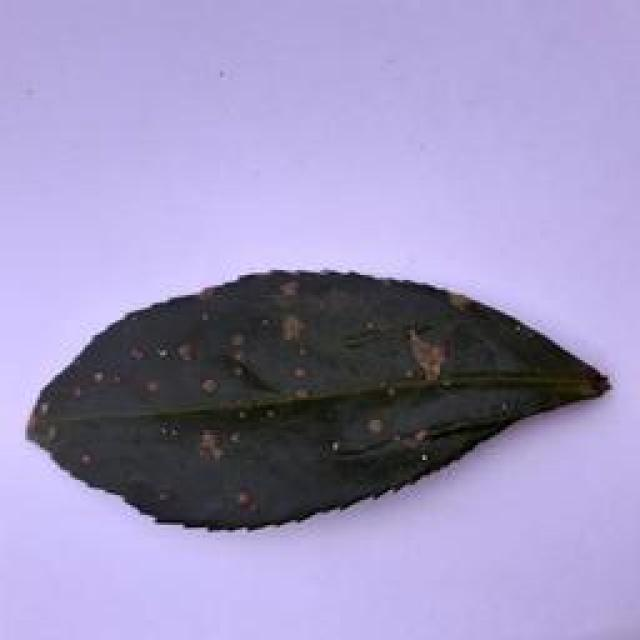Algal Leaf Spot: (22, 262, 604, 530)
